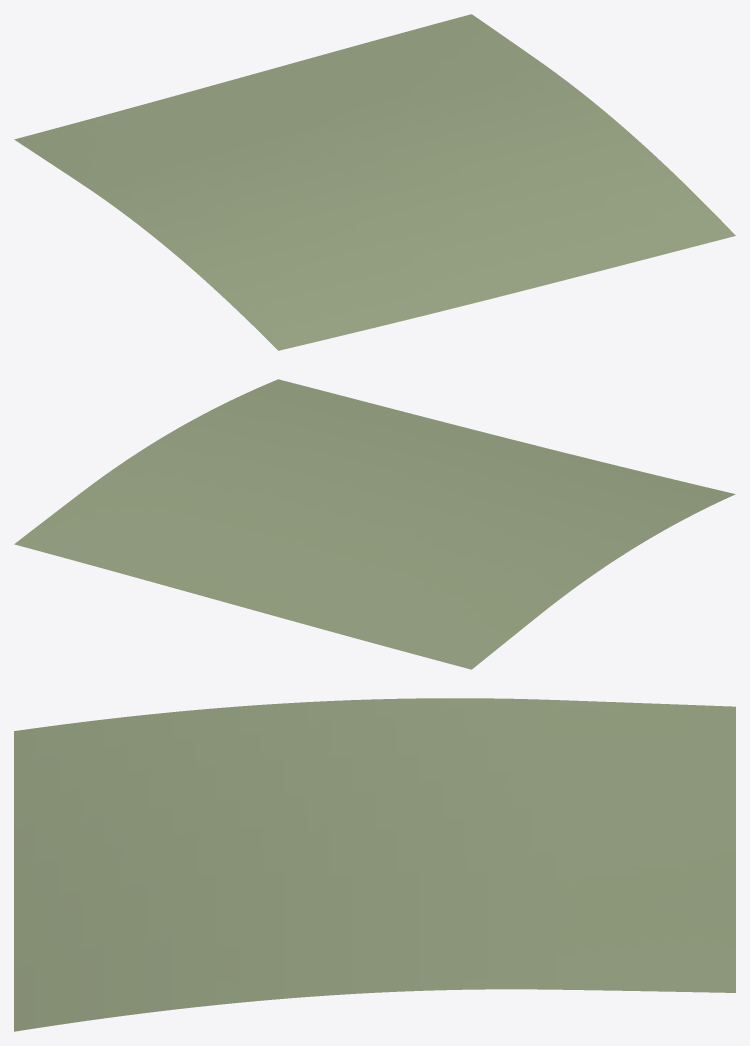
Rendered from expanse-28-17.glb.
3 views of the same model, one above another, from view 1: azimuth 30°, elevation 25°; view 2: azimuth 150°, elevation 25°; view 3: azimuth 270°, elevation 25° (orthographic). The views are drawn at different scales.
Visible parts, largest first — view 1: expanse-28-17; view 2: expanse-28-17; view 3: expanse-28-17.
Part boxes in pixels (left/top/right/bottom): expanse-28-17: left=14, top=14, right=735, bottom=350; expanse-28-17: left=14, top=379, right=735, bottom=669; expanse-28-17: left=14, top=698, right=735, bottom=1031.
Bounding box in the file's own units: 256 × 18.6 × 256.
